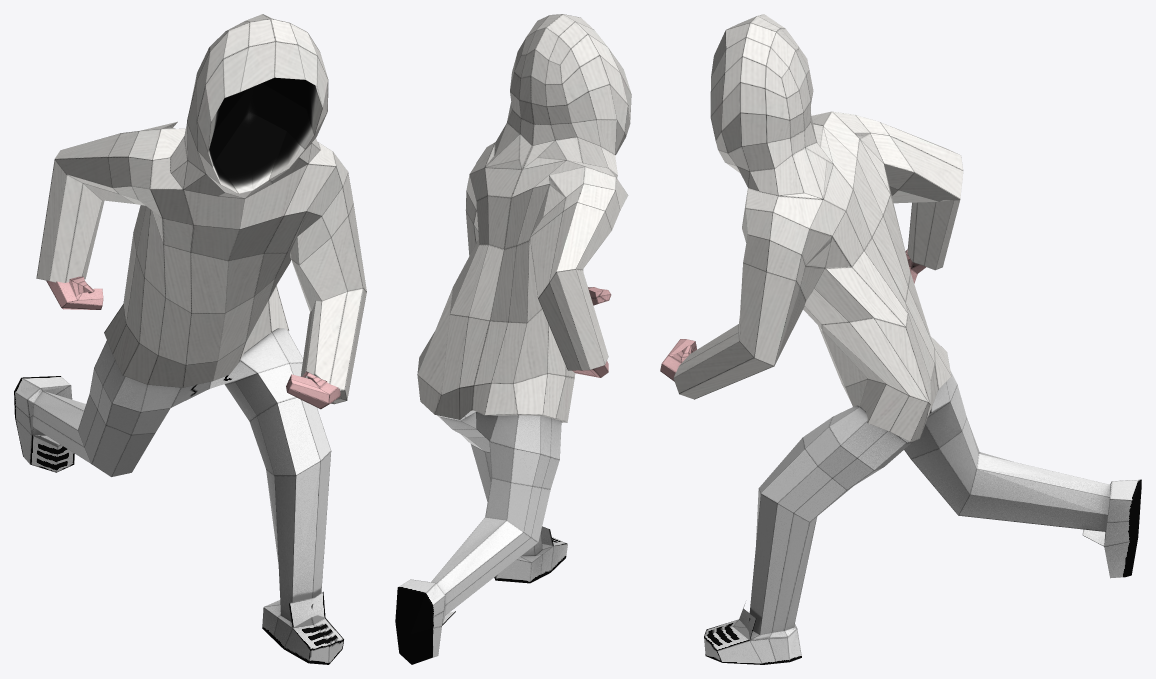
The model's file is Shadowmanv_000018.obj.
3 renders of one model, left to right at view 1: azimuth 30°, elevation 25°; view 2: azimuth 150°, elevation 25°; view 3: azimuth 270°, elevation 25°, orthographic. The views are drawn at different scales.
Parts seen in each view (by area): view 1: Cube.000; view 2: Cube.000; view 3: Cube.000.
Part boxes in pixels (x1,y1,x2,y2): Cube.000: (14, 14, 366, 664); Cube.000: (395, 14, 631, 664); Cube.000: (660, 14, 1141, 664).
Size of the model in its own units: 4.22 by 10.75 by 7.6.
